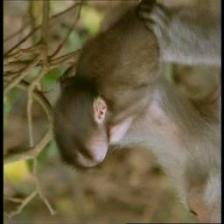monkey: (176, 171, 222, 224), (77, 127, 115, 173)
